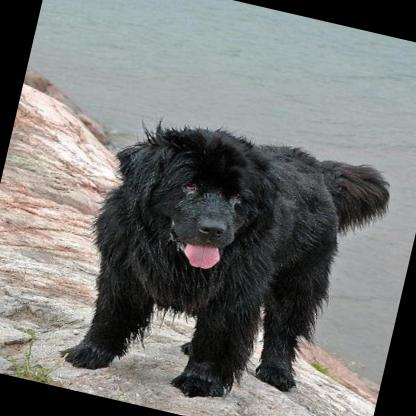Newfoundland: (55, 100, 393, 416)
